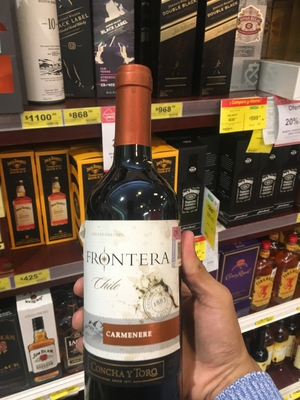frontera carmenere: (79, 65, 195, 400)
